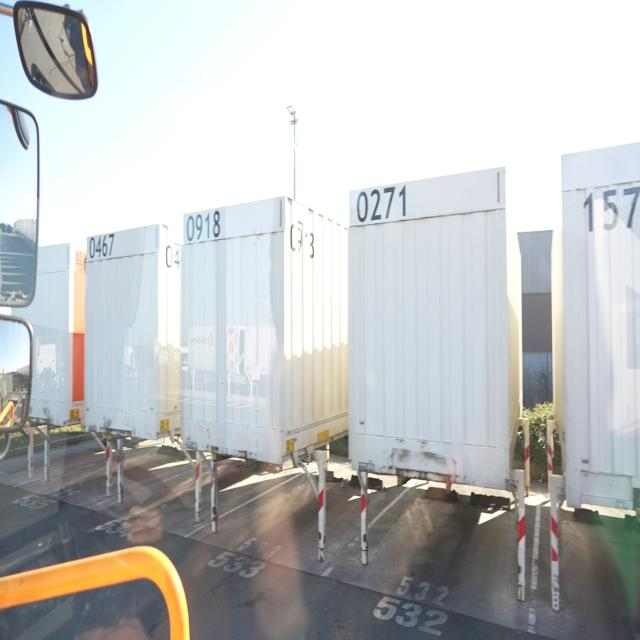Code: (354, 181, 409, 228), (184, 208, 222, 246), (86, 231, 120, 263)
